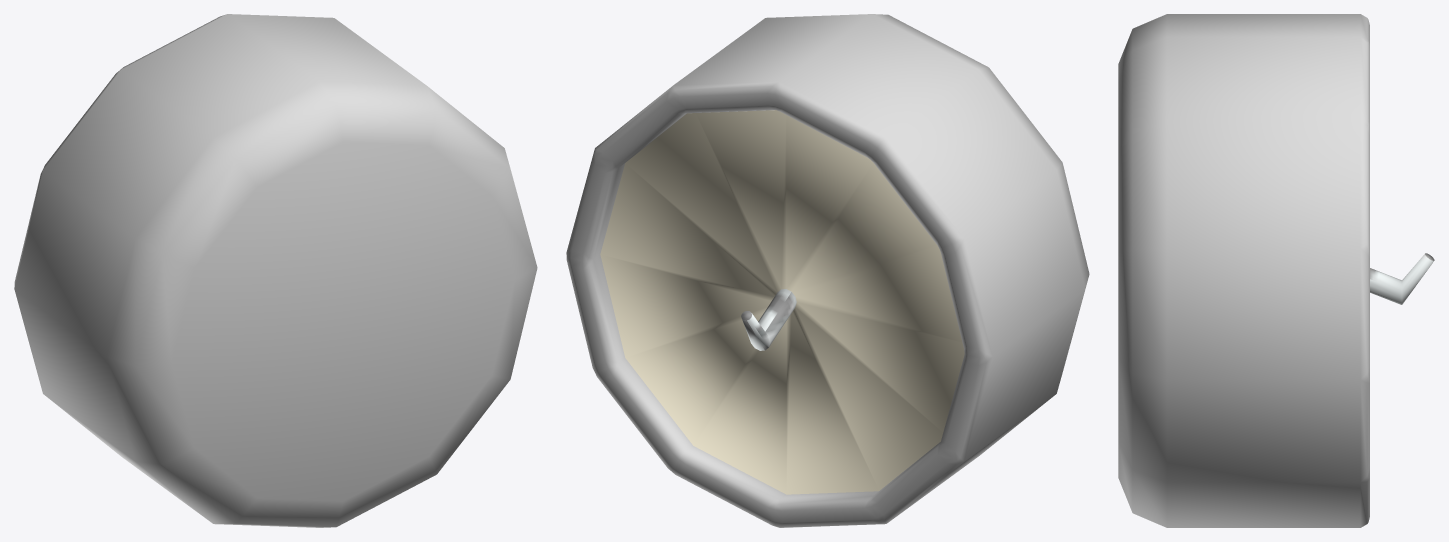
The model's file is item-small-candle.glb.
The picture shows the model from 3 angles, left to right: view 1: azimuth 30°, elevation 25°; view 2: azimuth 150°, elevation 25°; view 3: azimuth 270°, elevation 25°; orthographic projection. The views are drawn at different scales.
Size of the model in its own units: 2 by 2 by 1.23.
Materials: 3 (1 with a texture image).
